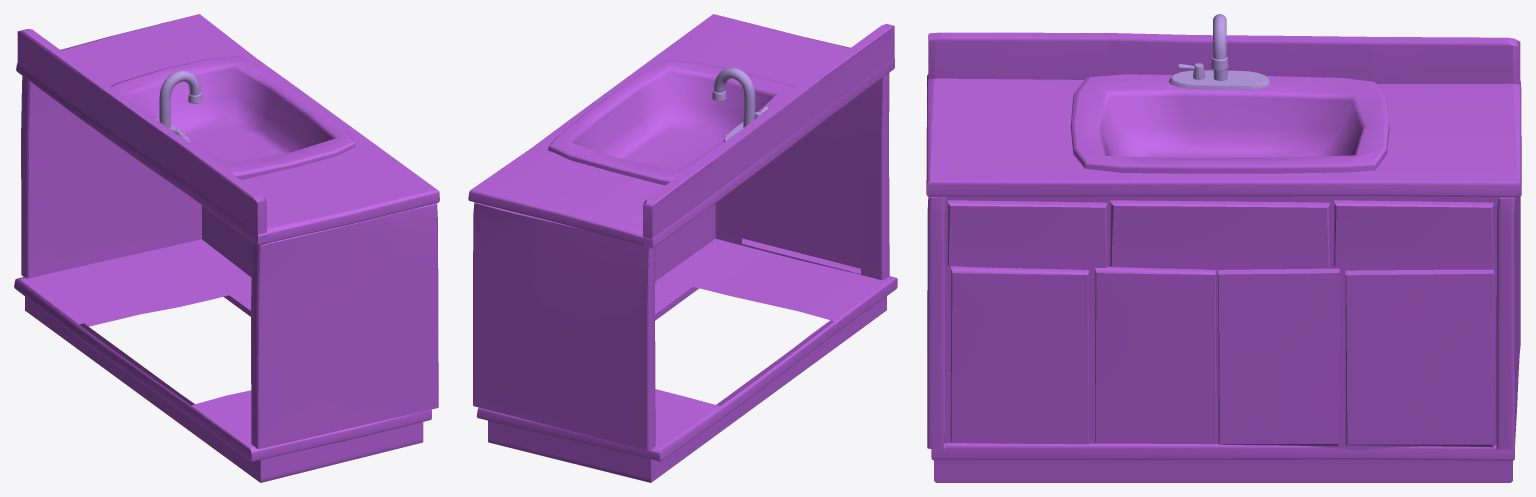
The model's file is Friday_KitchenSink.fbx.
3 views of the same model, side by side, from view 1: azimuth 30°, elevation 25°; view 2: azimuth 150°, elevation 25°; view 3: azimuth 270°, elevation 25° (orthographic). The views are drawn at different scales.
Visible parts, largest first — view 1: Sink, Faucet; view 2: Sink, Faucet; view 3: Sink, Faucet.
Boxes of the visible parts, x1,y1,x2,y2 form: Sink: [14, 14, 439, 482]; Faucet: [155, 70, 202, 142]; Sink: [468, 14, 897, 482]; Faucet: [712, 67, 755, 142]; Sink: [926, 32, 1521, 482]; Faucet: [1168, 14, 1270, 89].
Size of the model in its own units: 31.72 by 50.59 by 69.93.
